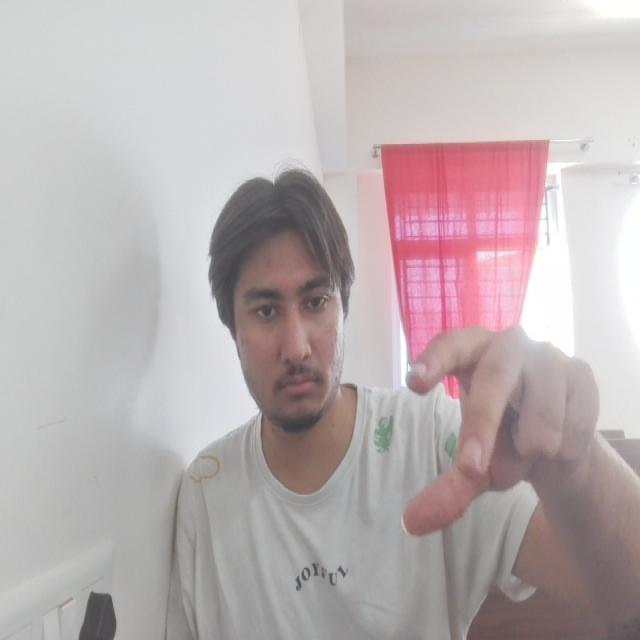no: (401, 313, 605, 537)
